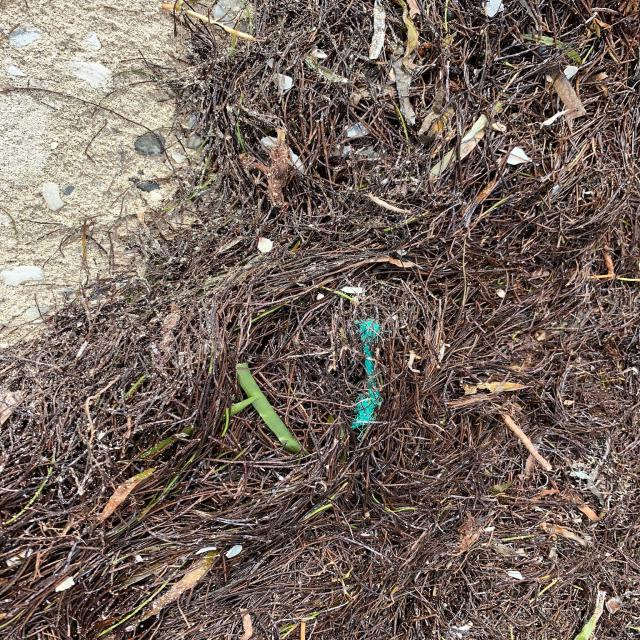litter: (342, 316, 384, 428)
